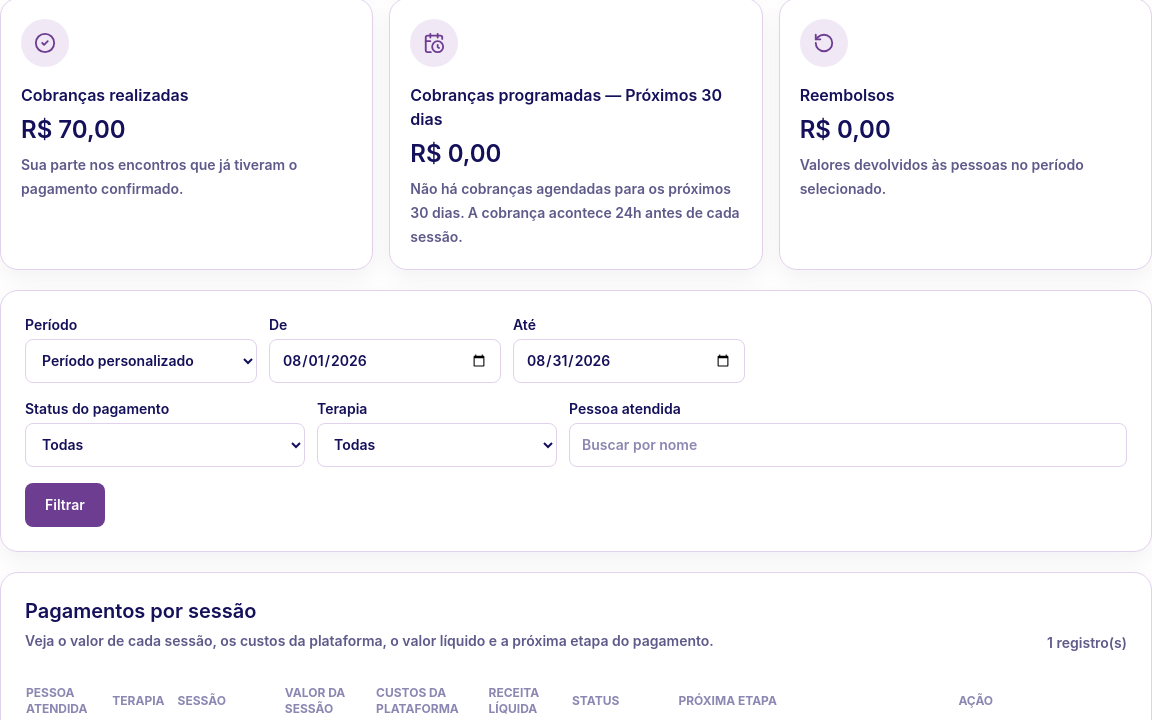
Test: TherapistFinancePage › shows custom date inputs in the receipts filters and hides them for preset periods
(page scrolled)
Expected: the date field labelled "De" holds "2026-08-01", [269,339,501,383]
Expected: the date field labelled "Até" holds "2026-08-31", [513,339,745,383]
Select "Últimos 90 dias" in the dropdown labelled "Período" at {"x": 141, "y": 361}, box [25,339,257,383]
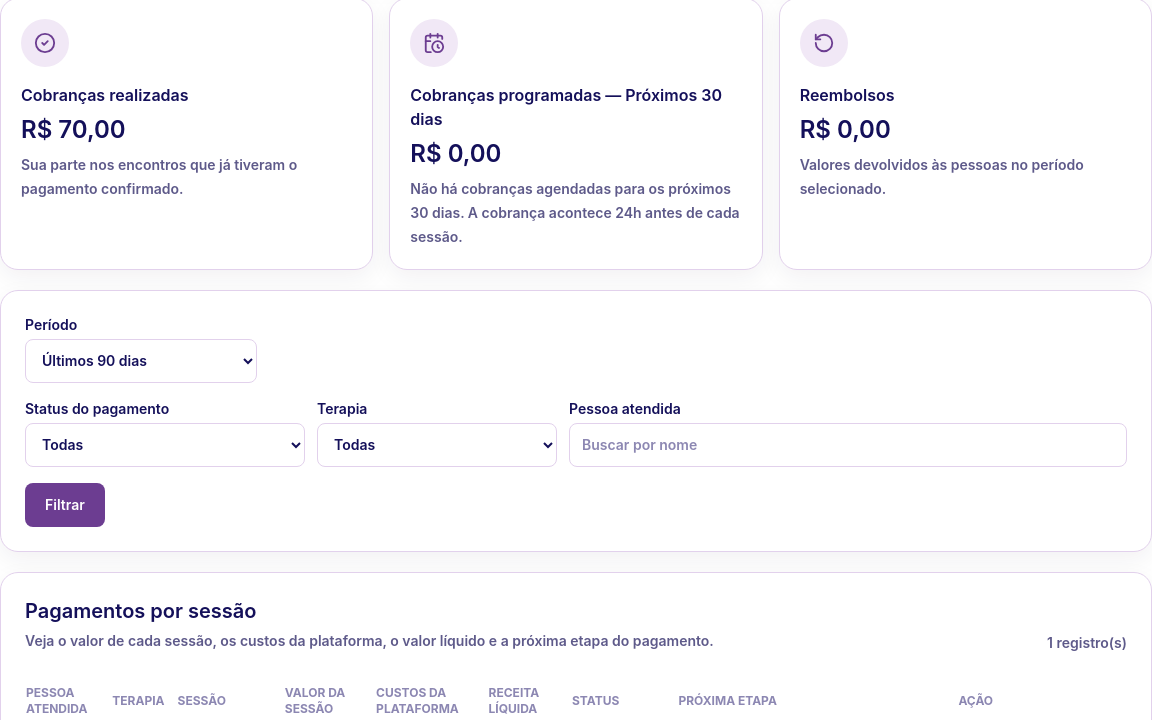
Now the label labelled "Até" is gone
